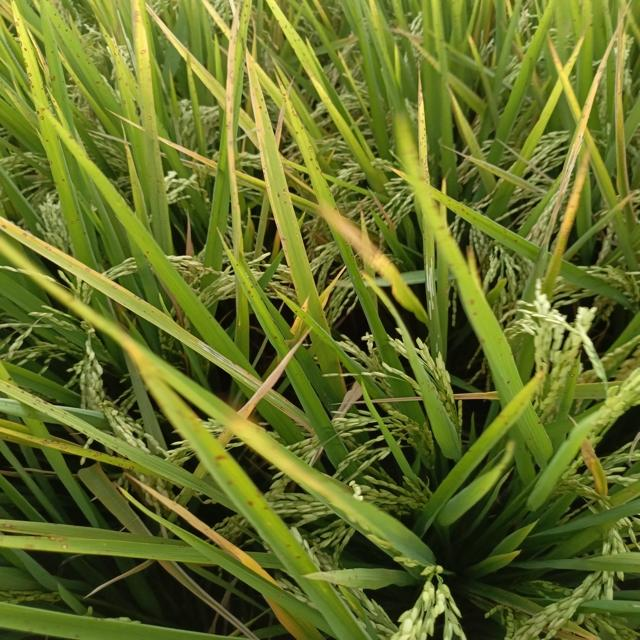Brown spot: (121, 470, 328, 640), (315, 201, 406, 288), (543, 28, 606, 127), (242, 324, 316, 408), (569, 414, 616, 496), (327, 395, 433, 410), (450, 390, 498, 410)
